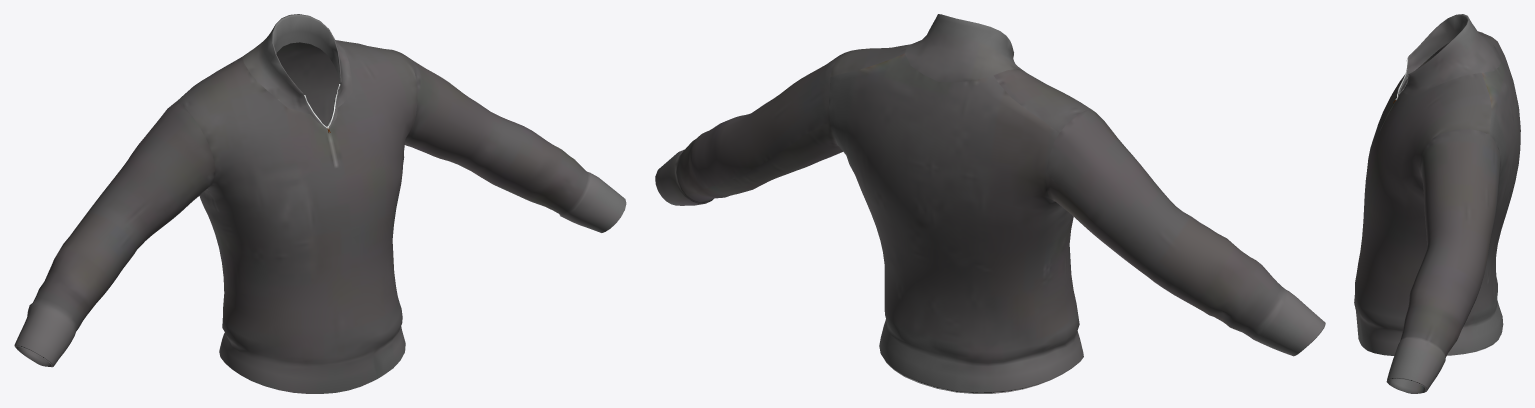
The model's file is ropa_gray_sweater.glb.
3 renders of one model, left to right at view 1: azimuth 30°, elevation 25°; view 2: azimuth 150°, elevation 25°; view 3: azimuth 270°, elevation 25°, orthographic. The views are drawn at different scales.
Visible parts, largest first — view 1: defaultMaterial; view 2: defaultMaterial; view 3: defaultMaterial.
Boxes of the visible parts, x1,y1,x2,y2 form: defaultMaterial: [14, 14, 626, 393]; defaultMaterial: [655, 14, 1325, 393]; defaultMaterial: [1354, 14, 1520, 393].
Size of the model in its own units: 1.33 by 0.7 by 0.3359.
1 material, 1 textured.
